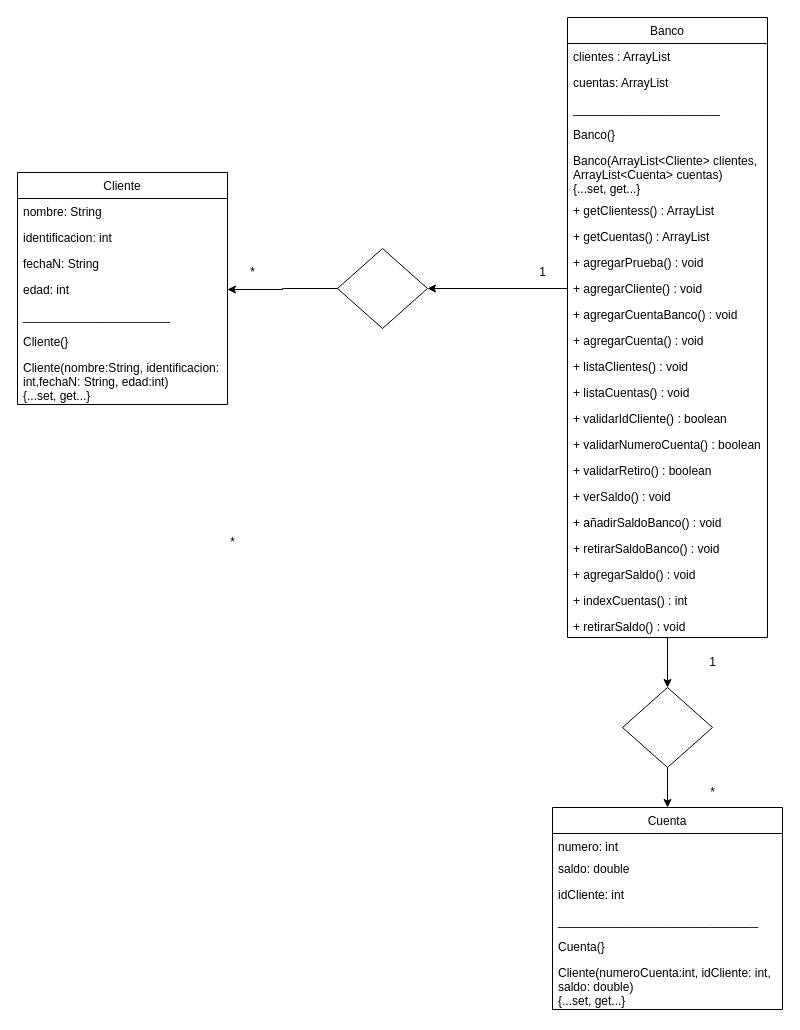
This 800x1030 diagram has some shape labels left out. The centre of each missing label's shape, as x and y in pixels:
crea: the point at 382,288
crea,edita: the point at 667,727
